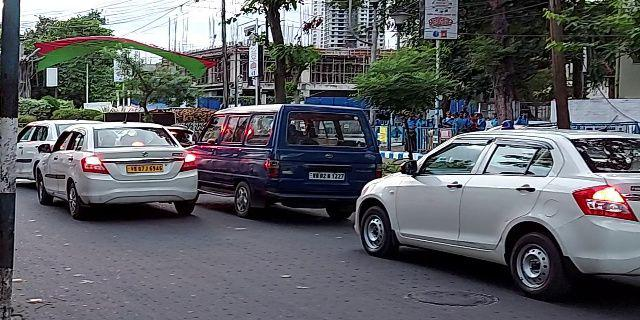Car: (350, 127, 640, 284), (207, 104, 375, 227), (41, 123, 202, 214)
